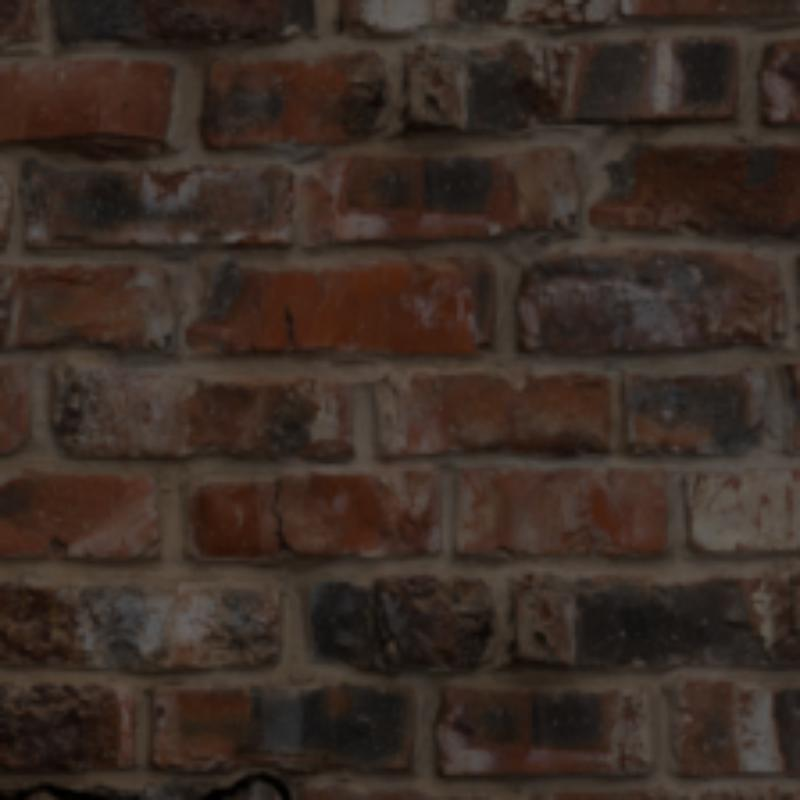crack: (204, 771, 289, 796), (0, 782, 111, 796), (271, 479, 289, 554)
